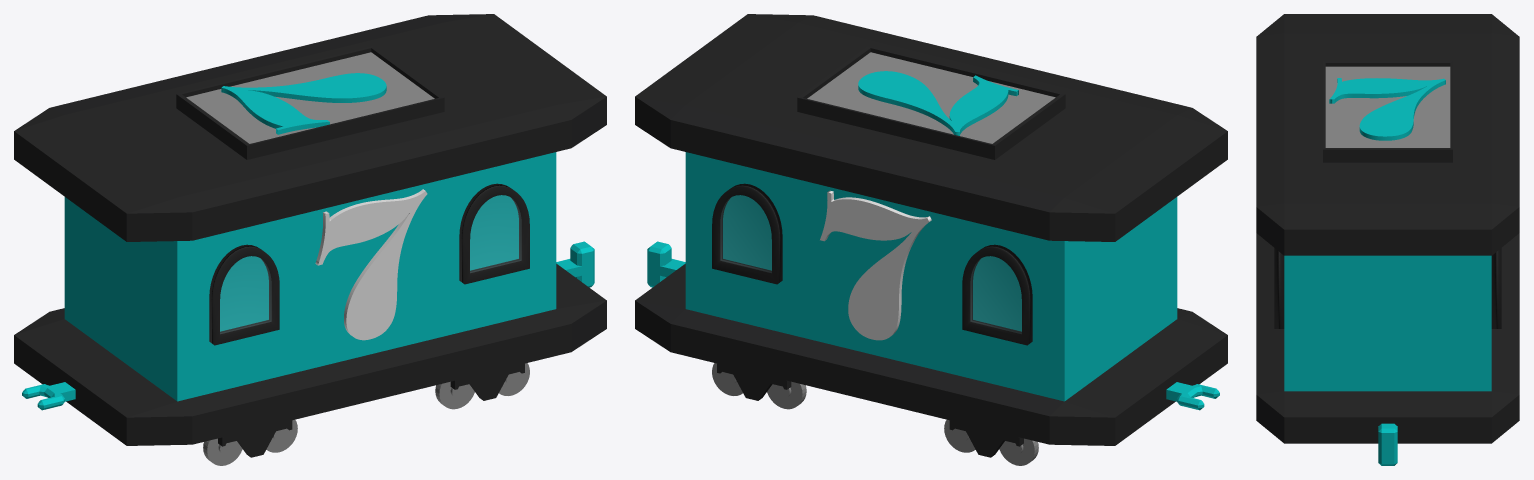
File: traincar7 joined mesh.fbx
3 views of the same model, side by side, from view 1: azimuth 30°, elevation 25°; view 2: azimuth 150°, elevation 25°; view 3: azimuth 270°, elevation 25° (orthographic). The views are drawn at different scales.
Visible parts, largest first — view 1: Cart7; view 2: Cart7; view 3: Cart7.
Boxes of the visible parts, box(x1,y1,x2,y2) form: Cart7: box(14, 14, 606, 465); Cart7: box(635, 14, 1227, 465); Cart7: box(1256, 14, 1519, 465).
Size of the model in its own units: 17.77 by 8.86 by 7.84.
